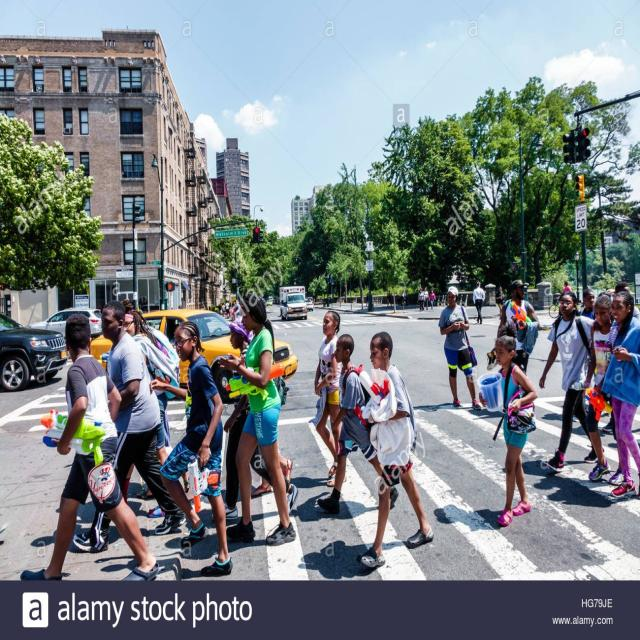body: (17, 309, 162, 593), (69, 296, 189, 553), (144, 316, 236, 579), (214, 289, 298, 547), (92, 302, 184, 520), (354, 328, 436, 571), (222, 313, 300, 521), (316, 332, 401, 516), (474, 318, 540, 530), (536, 288, 606, 472), (122, 308, 181, 500), (571, 292, 625, 488), (603, 292, 640, 499), (307, 309, 348, 488), (504, 451, 616, 508), (437, 284, 482, 412), (588, 275, 640, 384), (165, 506, 278, 552), (296, 536, 408, 579), (94, 551, 218, 587), (495, 277, 541, 371), (288, 498, 379, 527), (54, 499, 148, 524), (432, 502, 505, 532), (29, 528, 88, 553), (212, 293, 244, 324), (286, 466, 330, 488), (471, 279, 487, 325), (578, 288, 596, 322), (412, 398, 454, 412), (114, 290, 136, 313), (494, 284, 505, 319), (416, 288, 425, 312), (428, 289, 436, 312), (399, 289, 407, 311), (364, 290, 374, 307), (422, 286, 429, 310), (562, 280, 573, 294), (386, 291, 393, 308)
